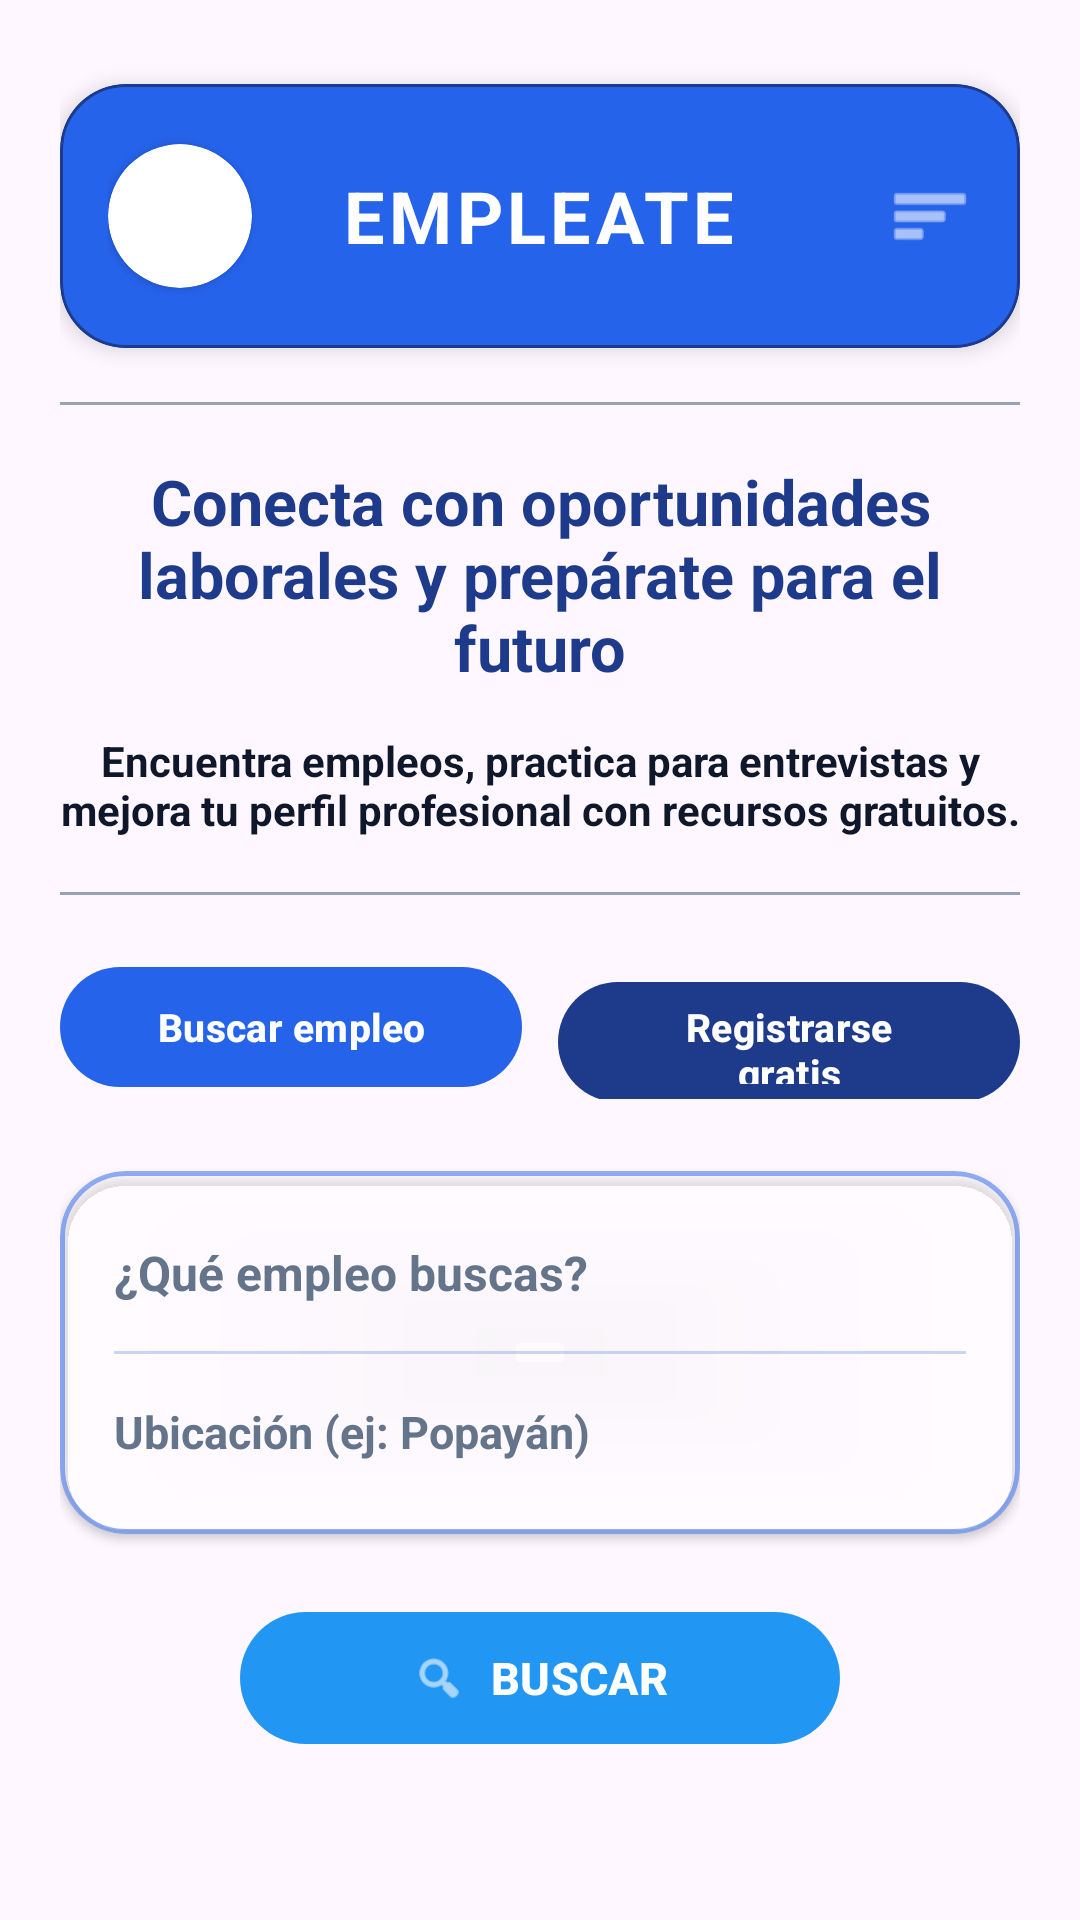

Icon bounding boxes for this 1080 x 1920 phone screenshot, format (x1, y1, x2, y2):
Menú: (894, 193, 966, 240)
